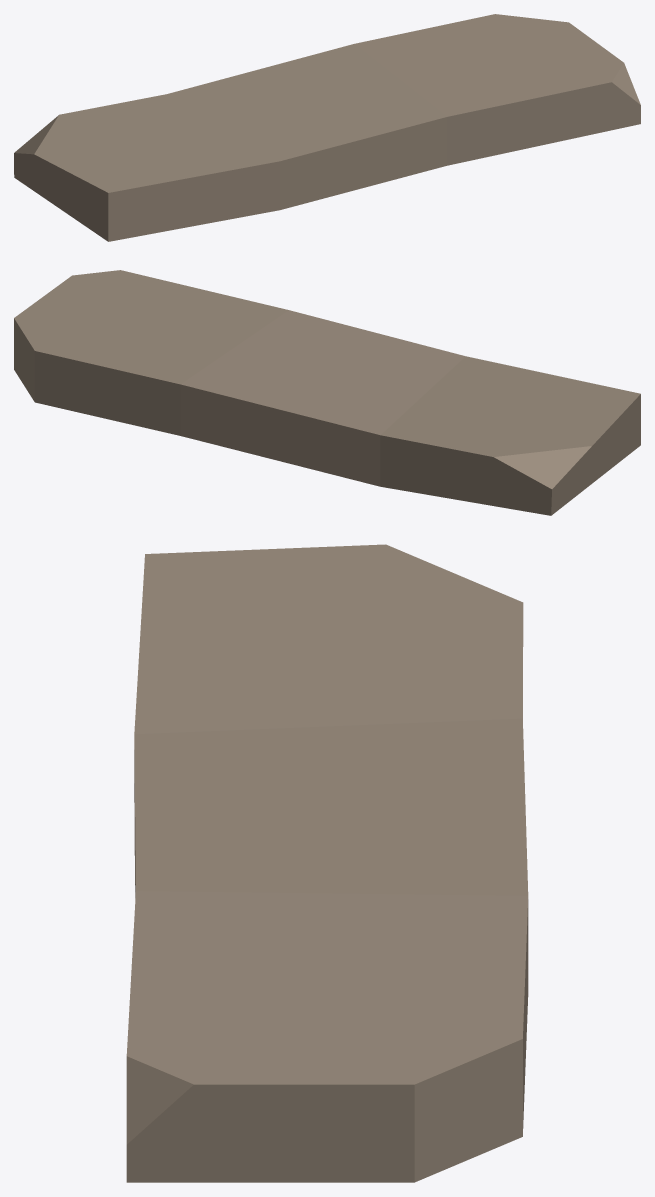
The model's file is House_Step_3.fbx.
3 views of the same model, one above another, from view 1: azimuth 30°, elevation 25°; view 2: azimuth 150°, elevation 25°; view 3: azimuth 270°, elevation 25° (orthographic). The views are drawn at different scales.
Parts seen in each view (by area): view 1: House_Step_3; view 2: House_Step_3; view 3: House_Step_3.
Part boxes in pixels (bbox=[...]): House_Step_3: bbox=[14, 14, 640, 241]; House_Step_3: bbox=[14, 270, 640, 515]; House_Step_3: bbox=[126, 544, 528, 1182].
Size of the model in its own units: 140 by 13.92 by 44.79.
